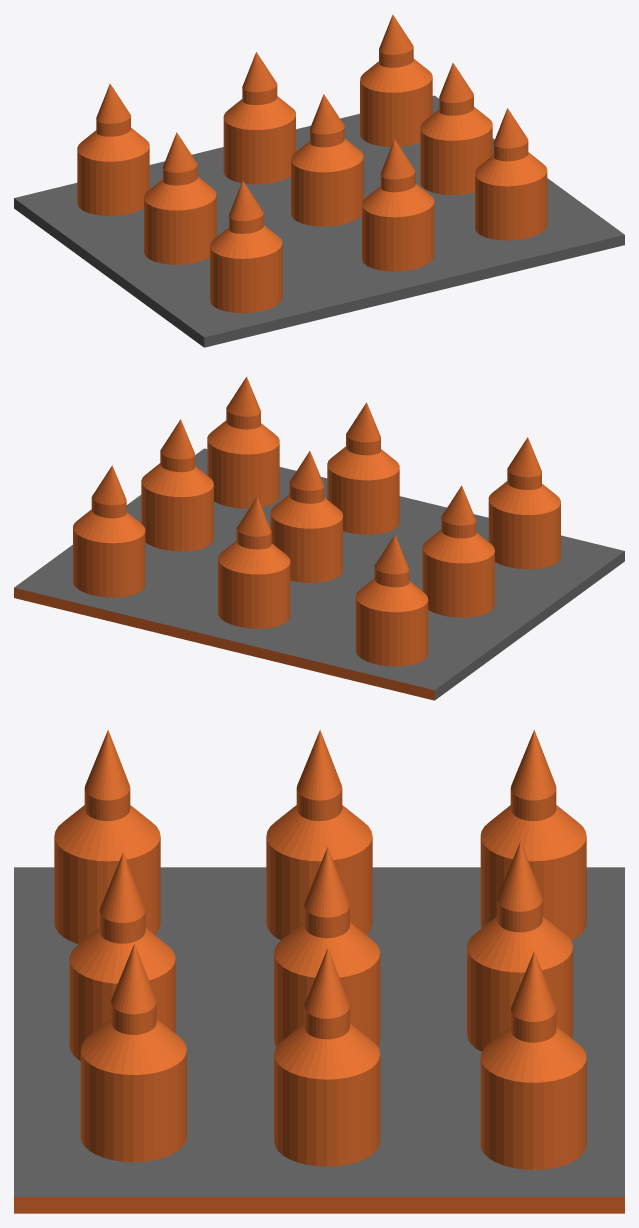
The model's file is assets 2.fbx.
3 renders of one model, top to bottom at view 1: azimuth 30°, elevation 25°; view 2: azimuth 150°, elevation 25°; view 3: azimuth 270°, elevation 25°, orthographic. The views are drawn at different scales.
Parts seen in each view (by area): view 1: Cube.010; view 2: Cube.010; view 3: Cube.010.
Part boxes in pixels (box(x1,y1,x2,y2)): Cube.010: box(14, 14, 624, 347); Cube.010: box(14, 376, 624, 700); Cube.010: box(14, 729, 624, 1213).
Bounding box in the file's own units: 361 × 106 × 283.
